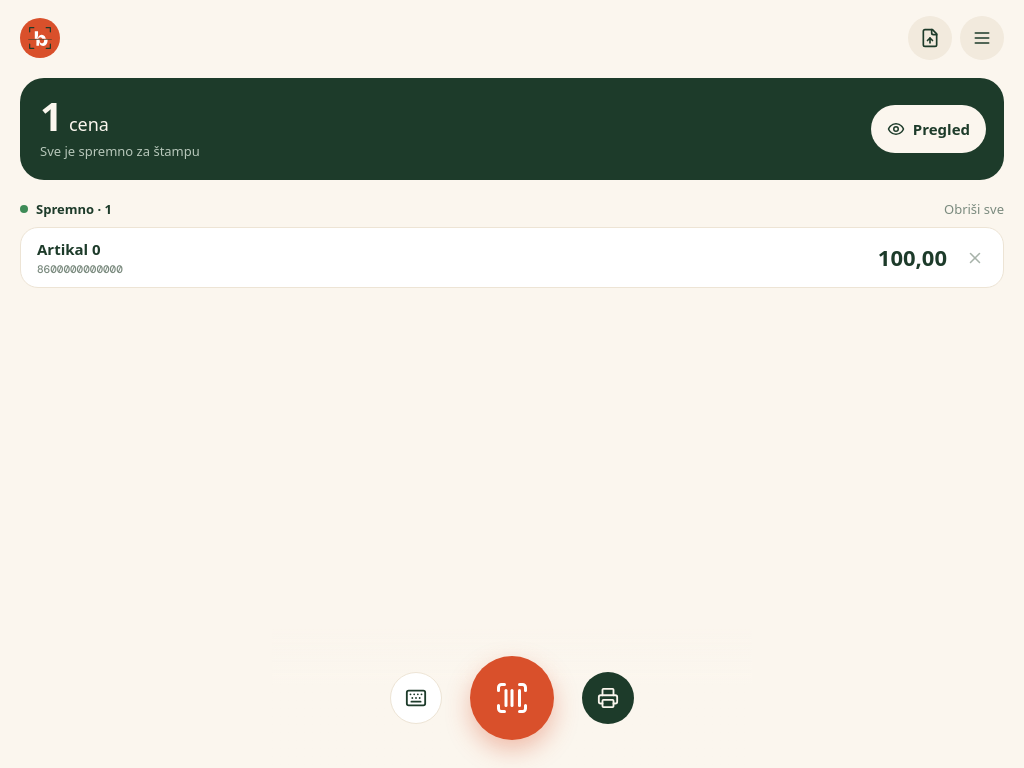
Test case: Home › asks before deleting a single price as 1 cenu
The image size is (1024, 768).
Click the button "Obriši sve". click: point(974, 209)
box: [944, 200, 1004, 219]
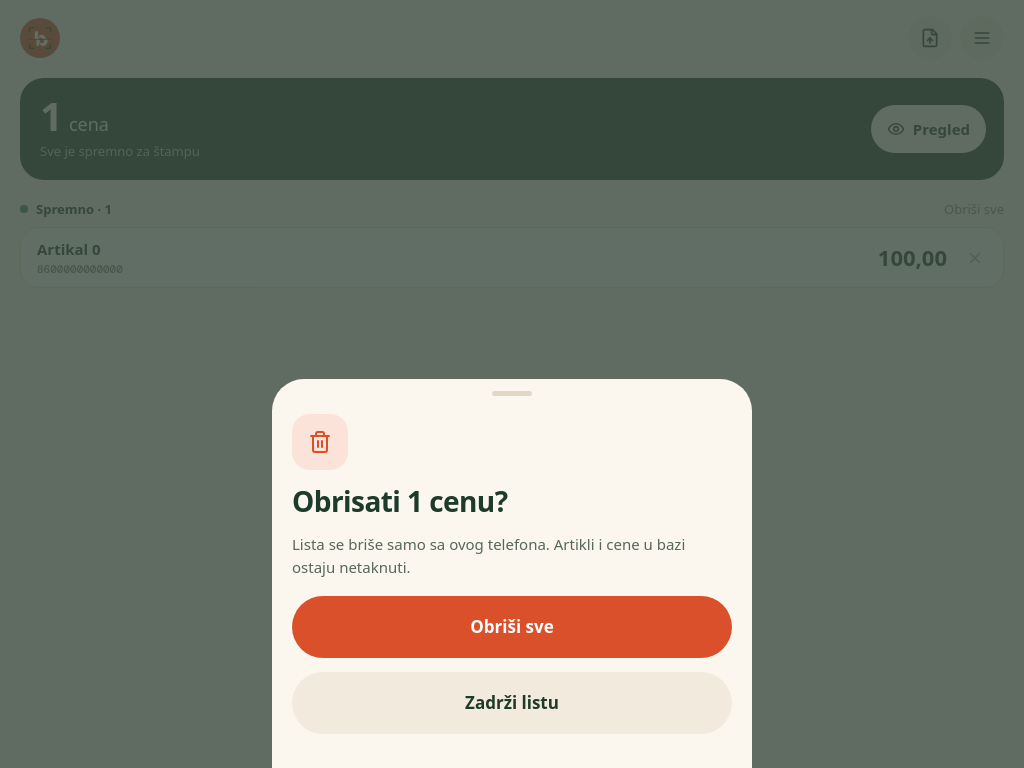
Expected: the heading "Obrisati 1 cenu?" is shown, [292, 482, 508, 520]
